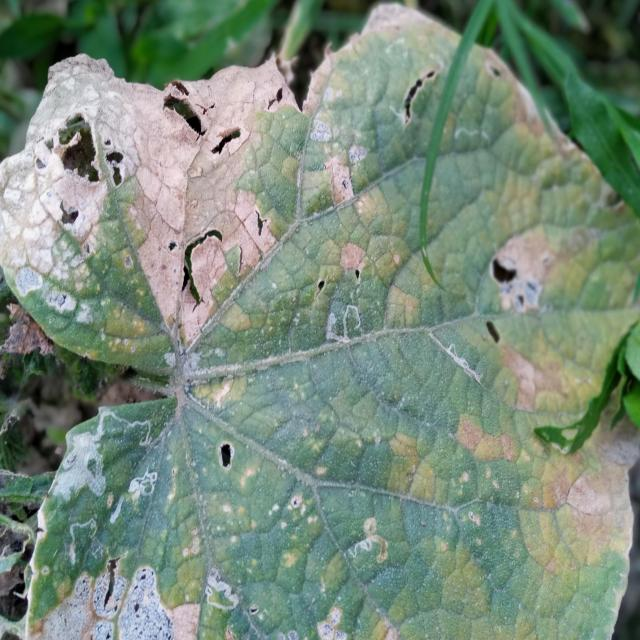cucumber_anthracnose: (24, 54, 582, 630)
